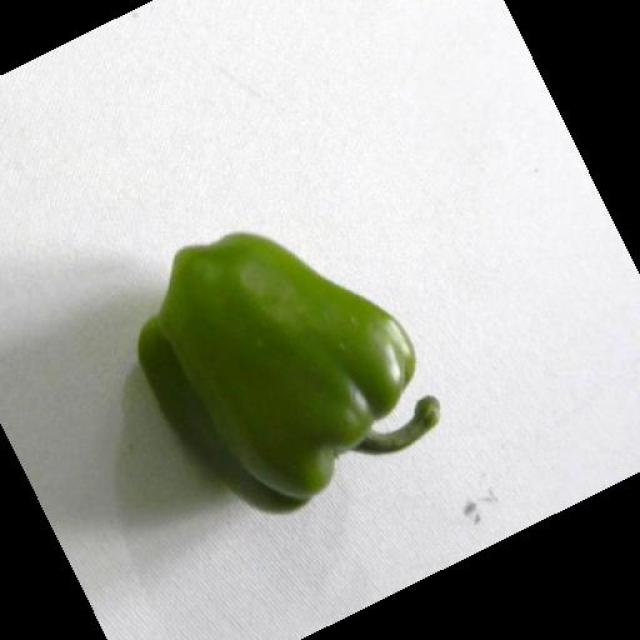Fresh_Capsicum: (118, 246, 462, 505)
